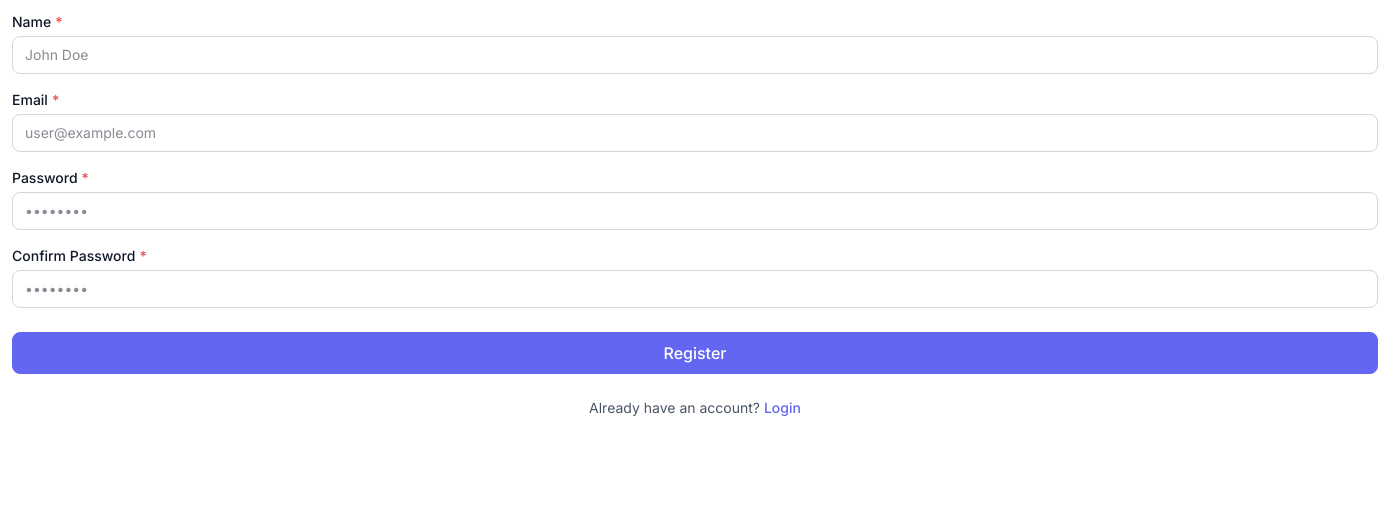
Scenario: RegisterForm › validates required fields
Click the button with test id "register-submit-btn".
click(695, 353)  # box [12,332,1378,374]
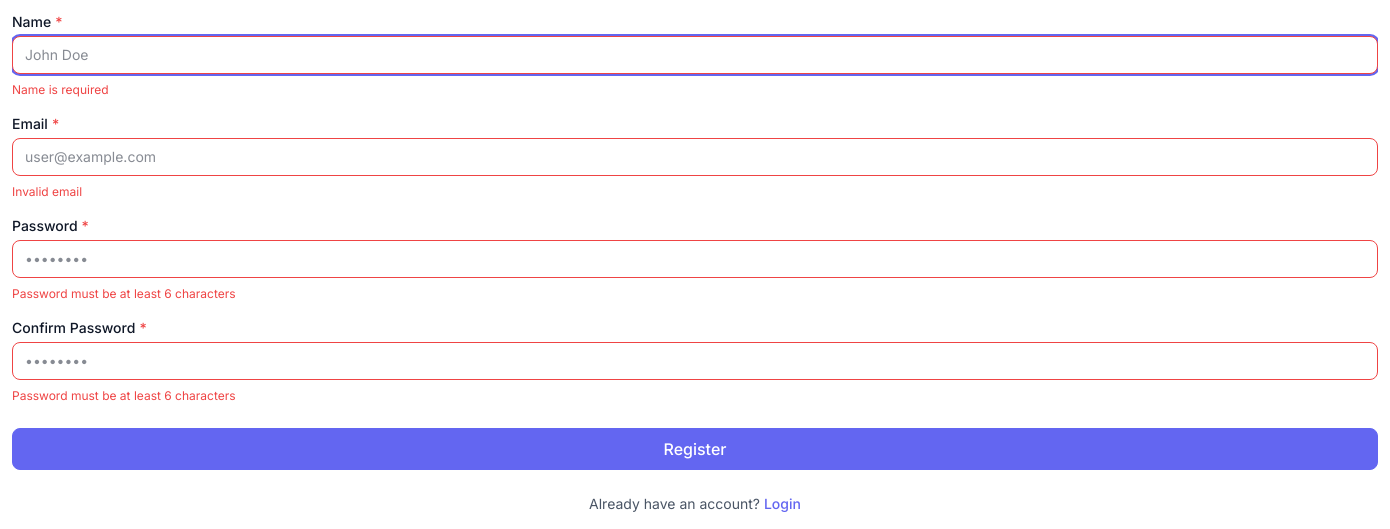
Expected: the text with test id "register-name-input-error" reads "Name is required", [12,82,109,97]
